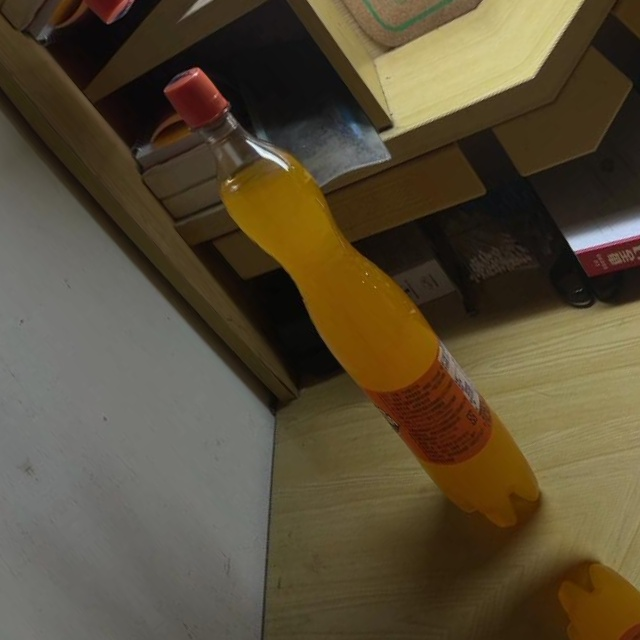Fanta: (124, 49, 568, 551)
